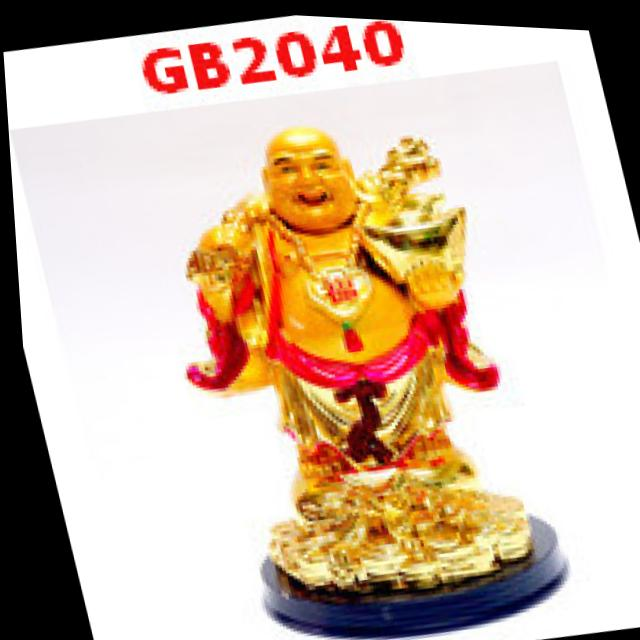Smiling Buddha: (124, 90, 530, 536)
